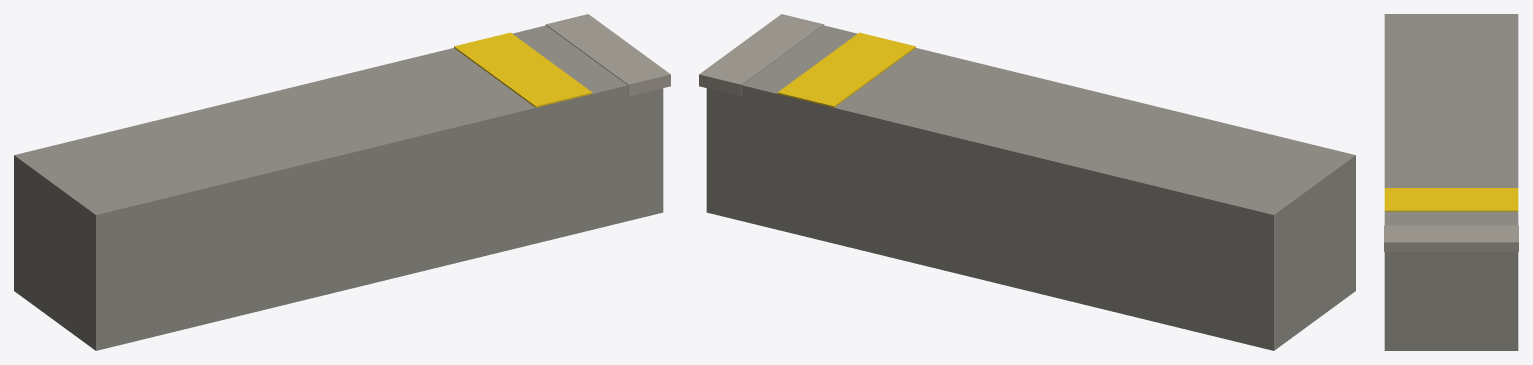
The model's file is rail.way.platform.glb.
3 renders of one model, left to right at view 1: azimuth 30°, elevation 25°; view 2: azimuth 150°, elevation 25°; view 3: azimuth 270°, elevation 25°, orthographic. The views are drawn at different scales.
Visible parts, largest first — view 1: main__concrete, main__plastic_yellow, main__paving; view 2: main__concrete, main__plastic_yellow, main__paving; view 3: main__concrete, main__paving, main__plastic_yellow.
Part boxes in pixels (x1,y1,x2,y2): main__concrete: [14, 25, 663, 350]; main__plastic_yellow: [454, 32, 592, 107]; main__paving: [545, 14, 670, 96]; main__concrete: [706, 25, 1355, 350]; main__plastic_yellow: [777, 32, 915, 107]; main__paving: [699, 14, 824, 96]; main__concrete: [1384, 14, 1518, 350]; main__paving: [1384, 225, 1518, 251]; main__plastic_yellow: [1384, 188, 1518, 211].
Bounding box in the file's own units: 4.05 × 0.925 × 1.01.
